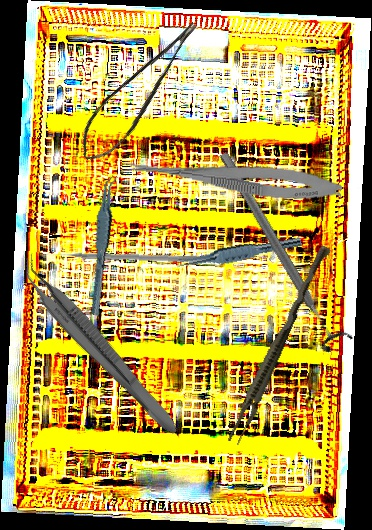Fixation Ring: (208, 144, 355, 356)
Micro Scissor: (64, 17, 221, 170), (121, 153, 343, 205)
Pusher: (46, 249, 204, 263)
Tissue Forceps: (8, 252, 192, 439), (225, 241, 332, 448), (74, 173, 132, 317), (174, 229, 303, 276)
